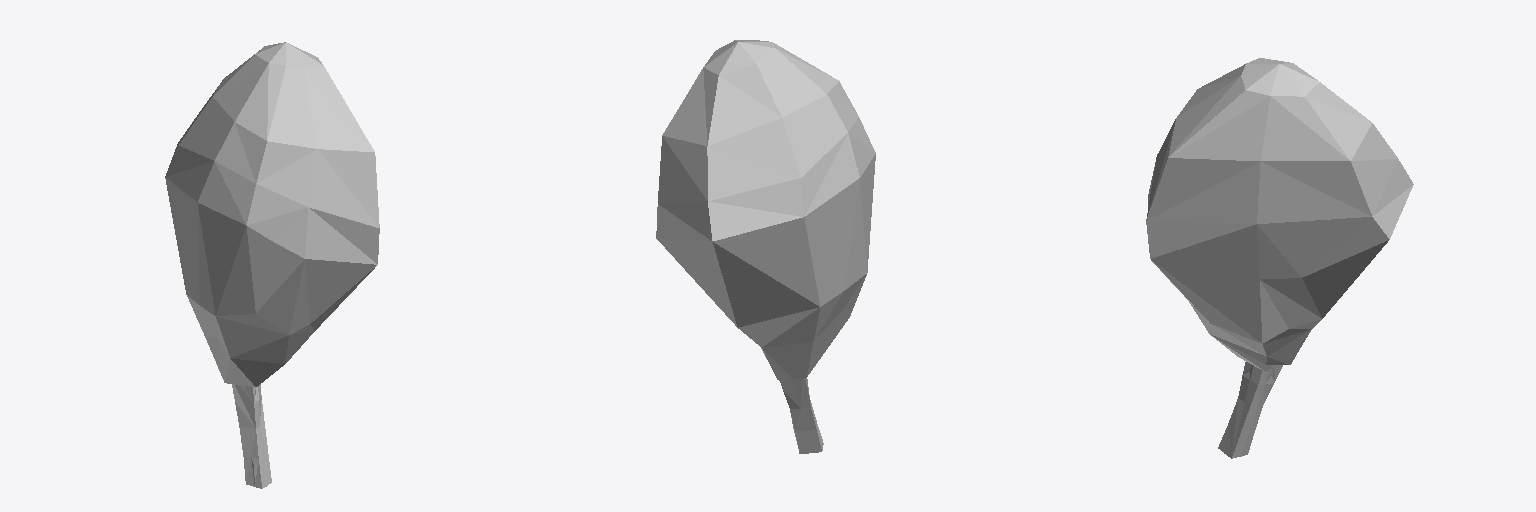
File: L_leg.obj
The picture shows the model from 3 angles: view 1: azimuth 30°, elevation 25°; view 2: azimuth 150°, elevation 25°; view 3: azimuth 270°, elevation 25°; orthographic projection.
Parts seen in each view (by area): view 1: polySurface501 polySurface494 polySurface492, polySurface496 polySurface16; view 2: polySurface501 polySurface494 polySurface492, polySurface496 polySurface16; view 3: polySurface501 polySurface494 polySurface492, polySurface496 polySurface16.
Boxes of the visible parts, x1,y1,x2,y2 form: polySurface501 polySurface494 polySurface492: [165, 42, 379, 386]; polySurface496 polySurface16: [232, 384, 271, 488]; polySurface501 polySurface494 polySurface492: [656, 40, 875, 379]; polySurface496 polySurface16: [779, 378, 823, 453]; polySurface501 polySurface494 polySurface492: [1146, 58, 1413, 372]; polySurface496 polySurface16: [1218, 362, 1282, 458].
Size of the model in its own units: 15.18 by 39.87 by 23.4.